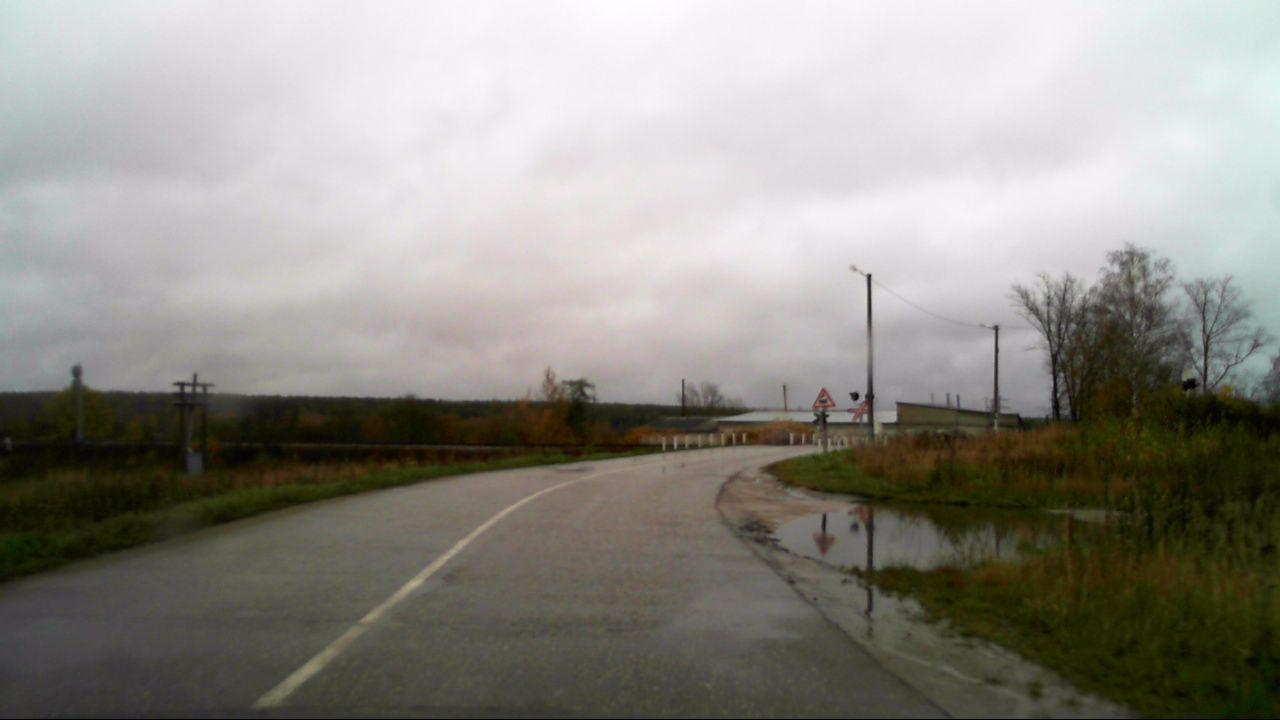1_2: (812, 387, 835, 408)
1_3_1: (846, 401, 870, 419)
